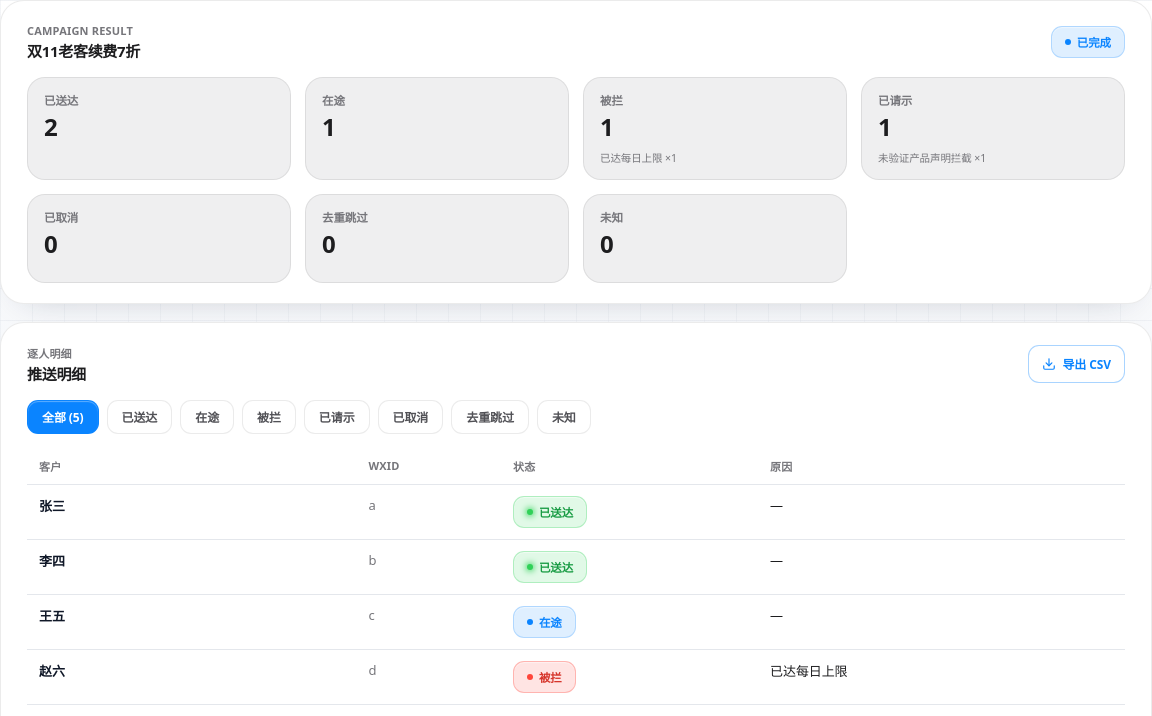
Test: CampaignFeature › 点某桶 chip 后明细表只剩该桶行
Step 1. Click the button "被拦" → (269, 417), box [242,400,296,434]
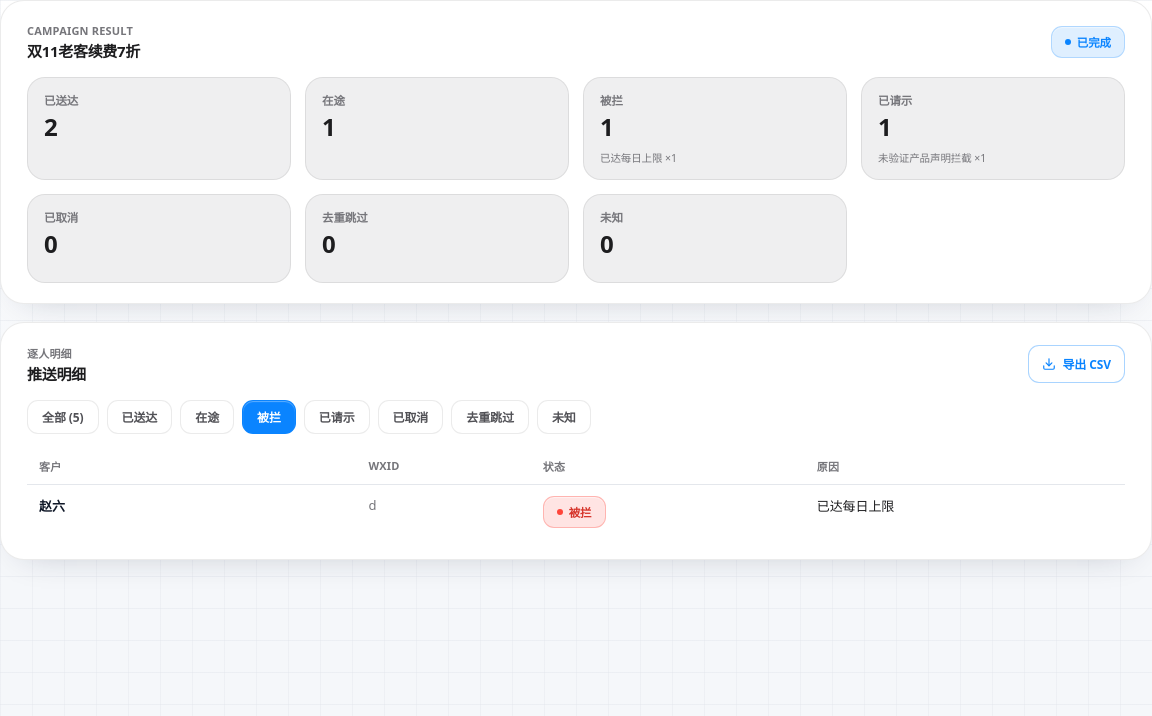
Expected: the row with test id "detail-row" shows "赵六", [39,497,65,515]
Expected: the number of rows with test id "detail-row" is 1, [27,484,1125,539]
